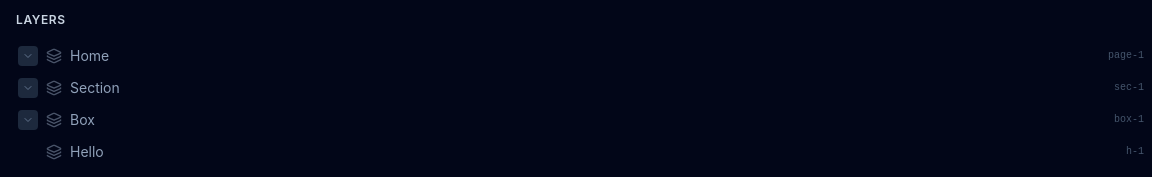
Test: LayersTree › collapse hides children and expand shows them again
Click the 2nd button named "Collapse": (28,88) [18,78,38,98]
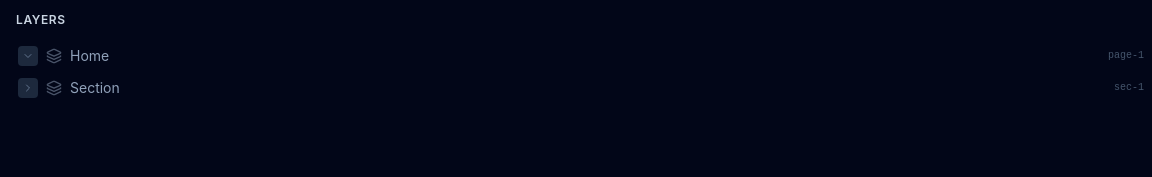
Expected: the text "Box" is gone
Expected: the text "Hello" is gone
Expected: the button named "Expand" is collapsed
Click the button named "Expand": (28,88) [18,78,38,98]
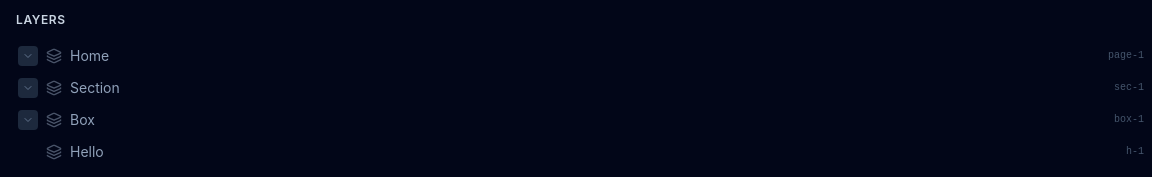
Expected: the text "Box" is shown, [70,110,95,130]
Expected: the 2nd button named "Collapse" is expanded, [18,78,38,98]
